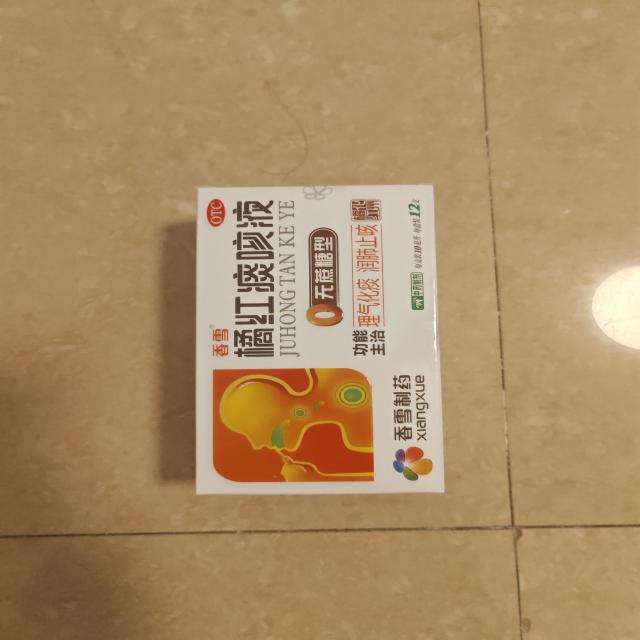box: (184, 180, 453, 500)
